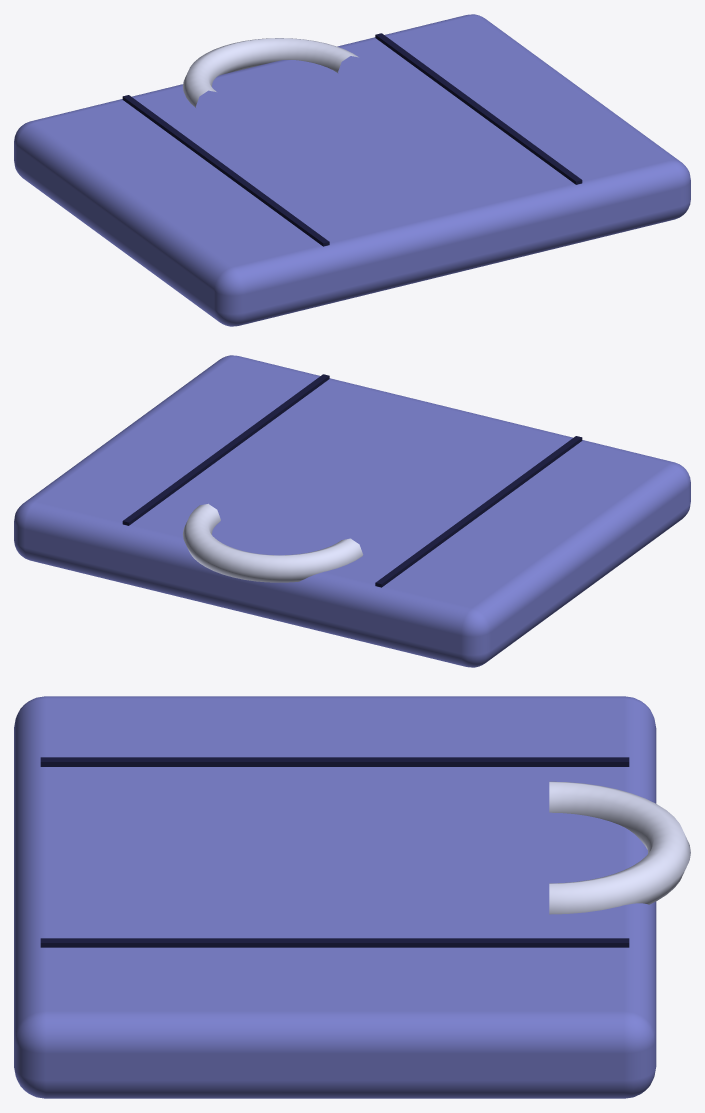
Rendered from foldedShirt.glb.
3 renders of one model, top to bottom at view 1: azimuth 30°, elevation 25°; view 2: azimuth 150°, elevation 25°; view 3: azimuth 270°, elevation 25°, orthographic. The views are drawn at different scales.
Visible parts, largest first — view 1: body, collar, foldedShirt; view 2: body, collar, foldedShirt; view 3: body, foldedShirt, collar.
Boxes of the visible parts, x1,y1,x2,y2 form: body: (14,14,690,326); collar: (182,38,358,107); foldedShirt: (122,33,582,246); body: (14,355,690,667); collar: (182,503,363,582); foldedShirt: (122,374,582,587); body: (14,696,656,1098); foldedShirt: (40,757,629,947); collar: (549,781,690,914).
Bounding box in the file's own units: 0.3 × 0.044 × 0.253.
